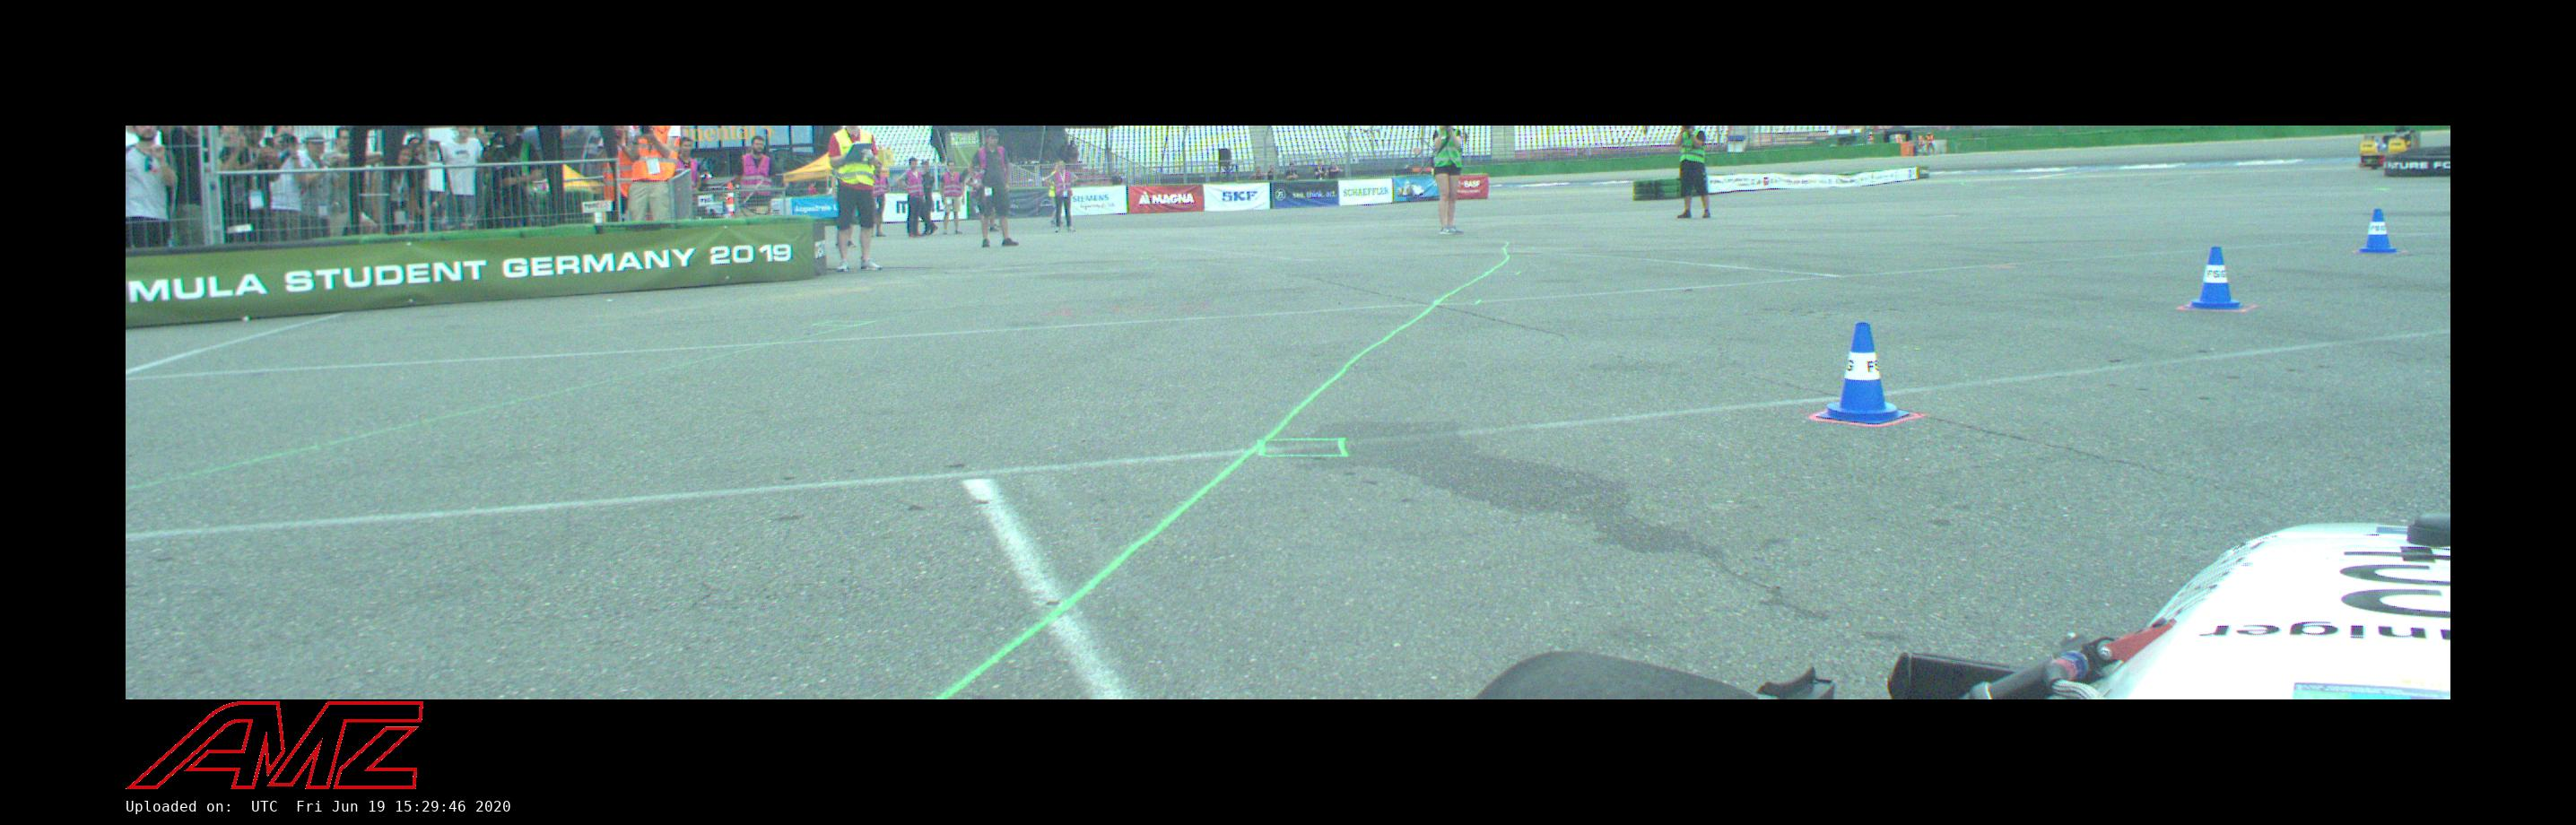blue_cone: (1815, 322, 1909, 424), (2187, 248, 2241, 311), (2359, 209, 2397, 253)
